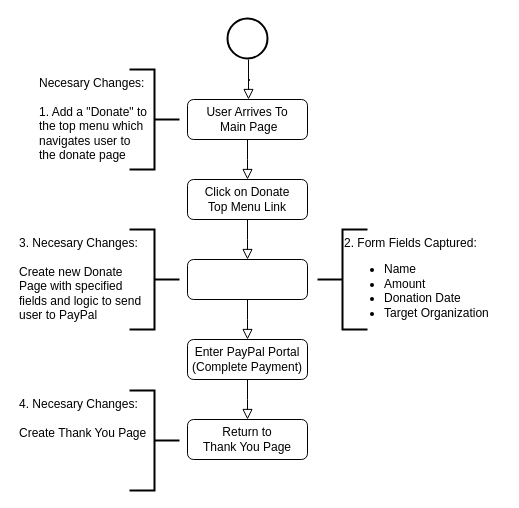
Image size: 519x508. Some labels were removed from this diagram. Here are the shapes that lost their labels. From the top down, the centre of each, then its label:
At pixel 247 38: "Start".
At pixel 247 279: "Complete Donation Form".
